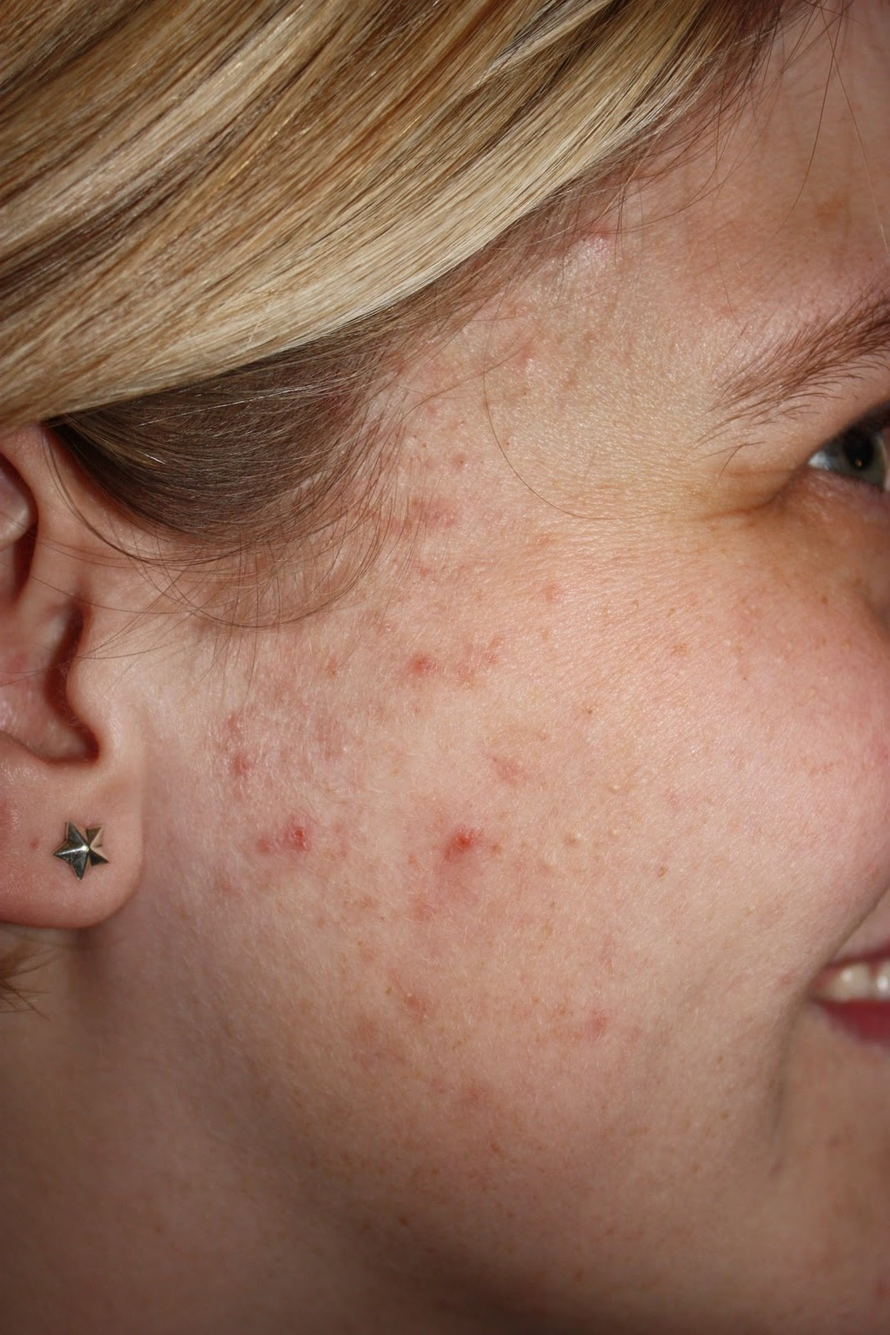Acne: (193, 164, 679, 1105)
